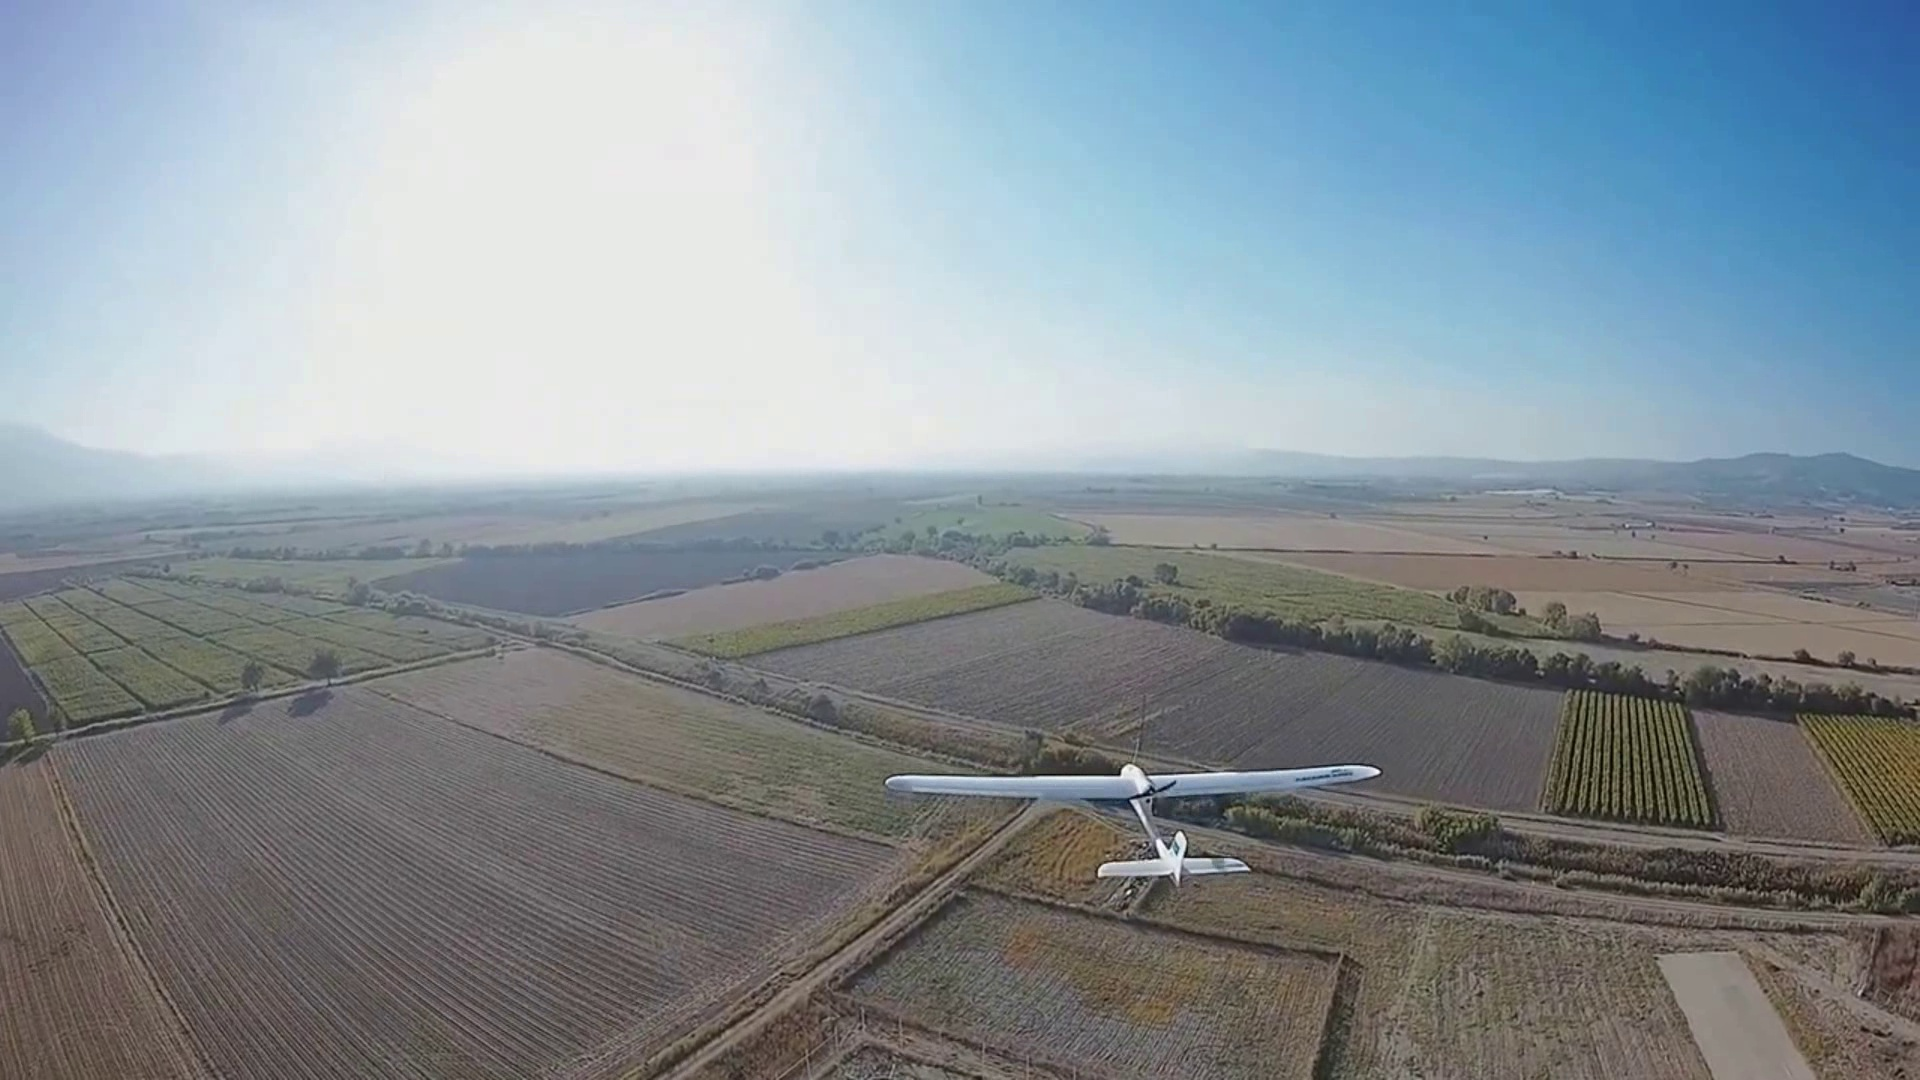airplane: (876, 762, 1381, 901)
